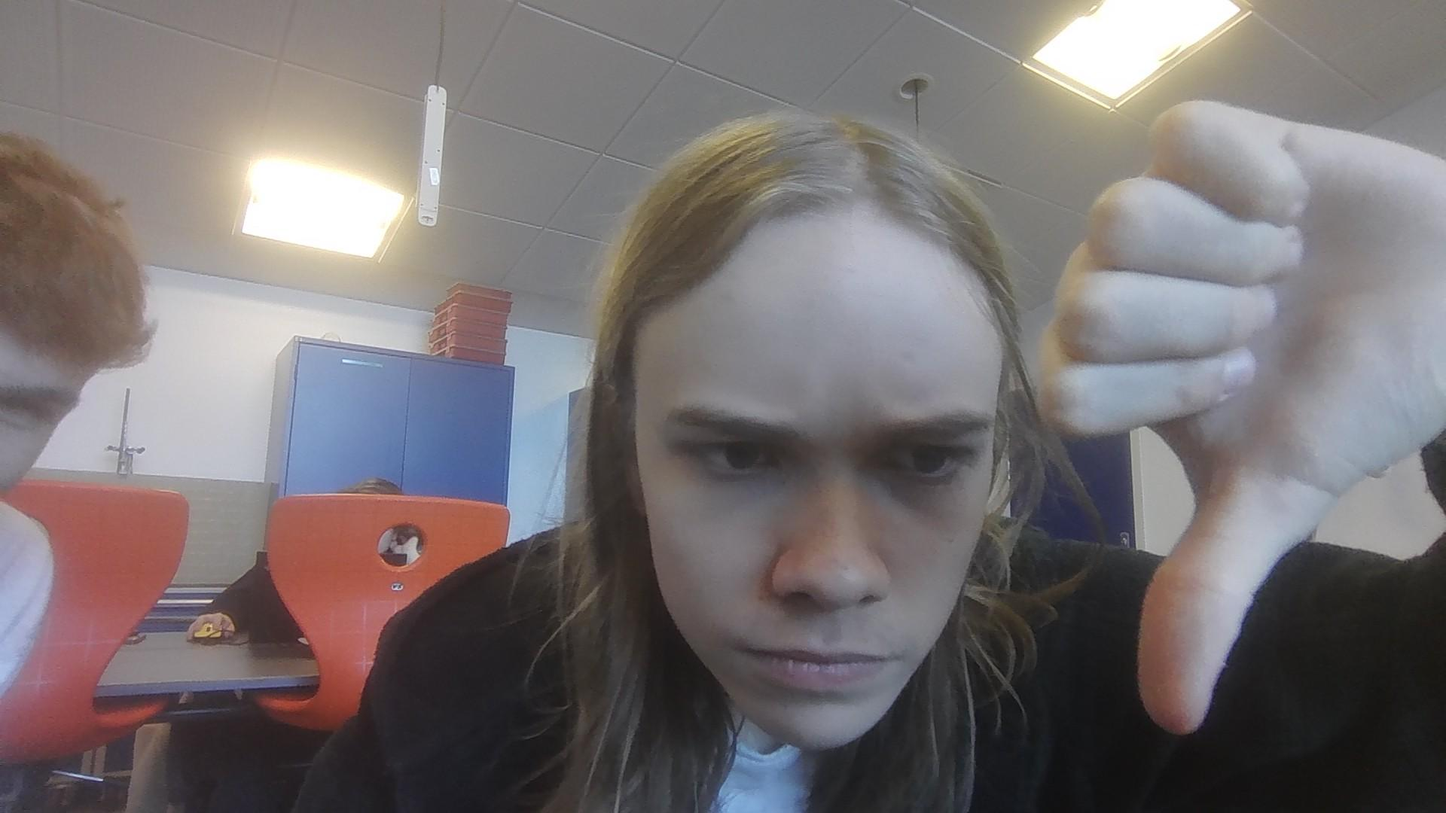thumbs down: (1036, 98, 1446, 739)
